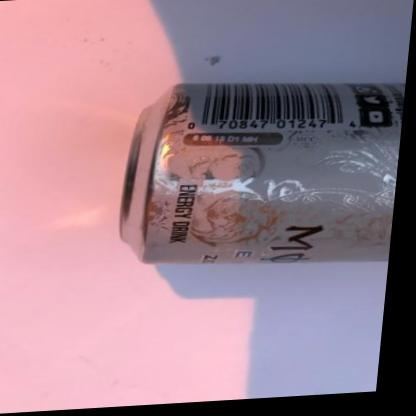trash: (120, 83, 401, 262)
